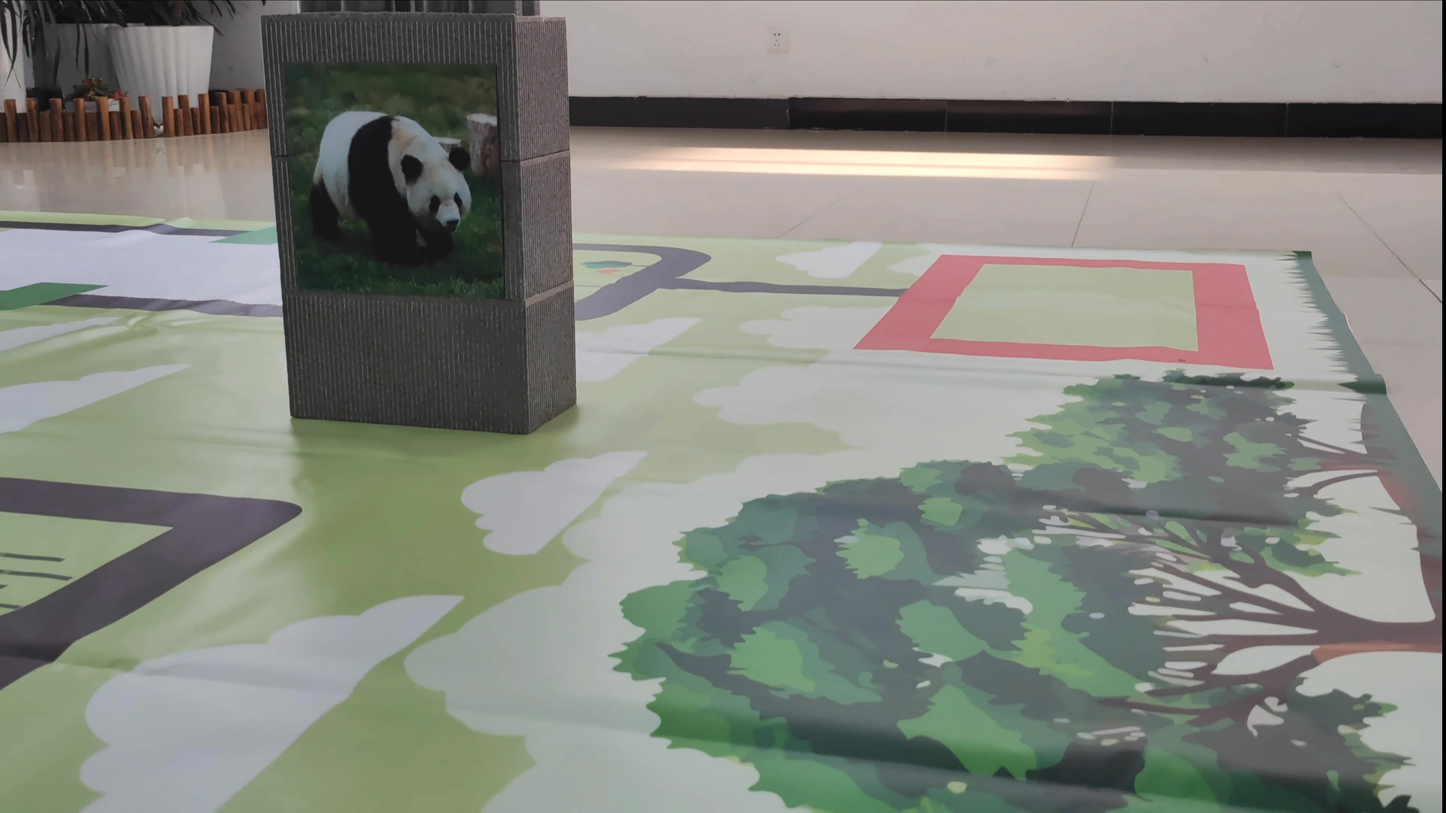panda: (296, 75, 499, 289)
